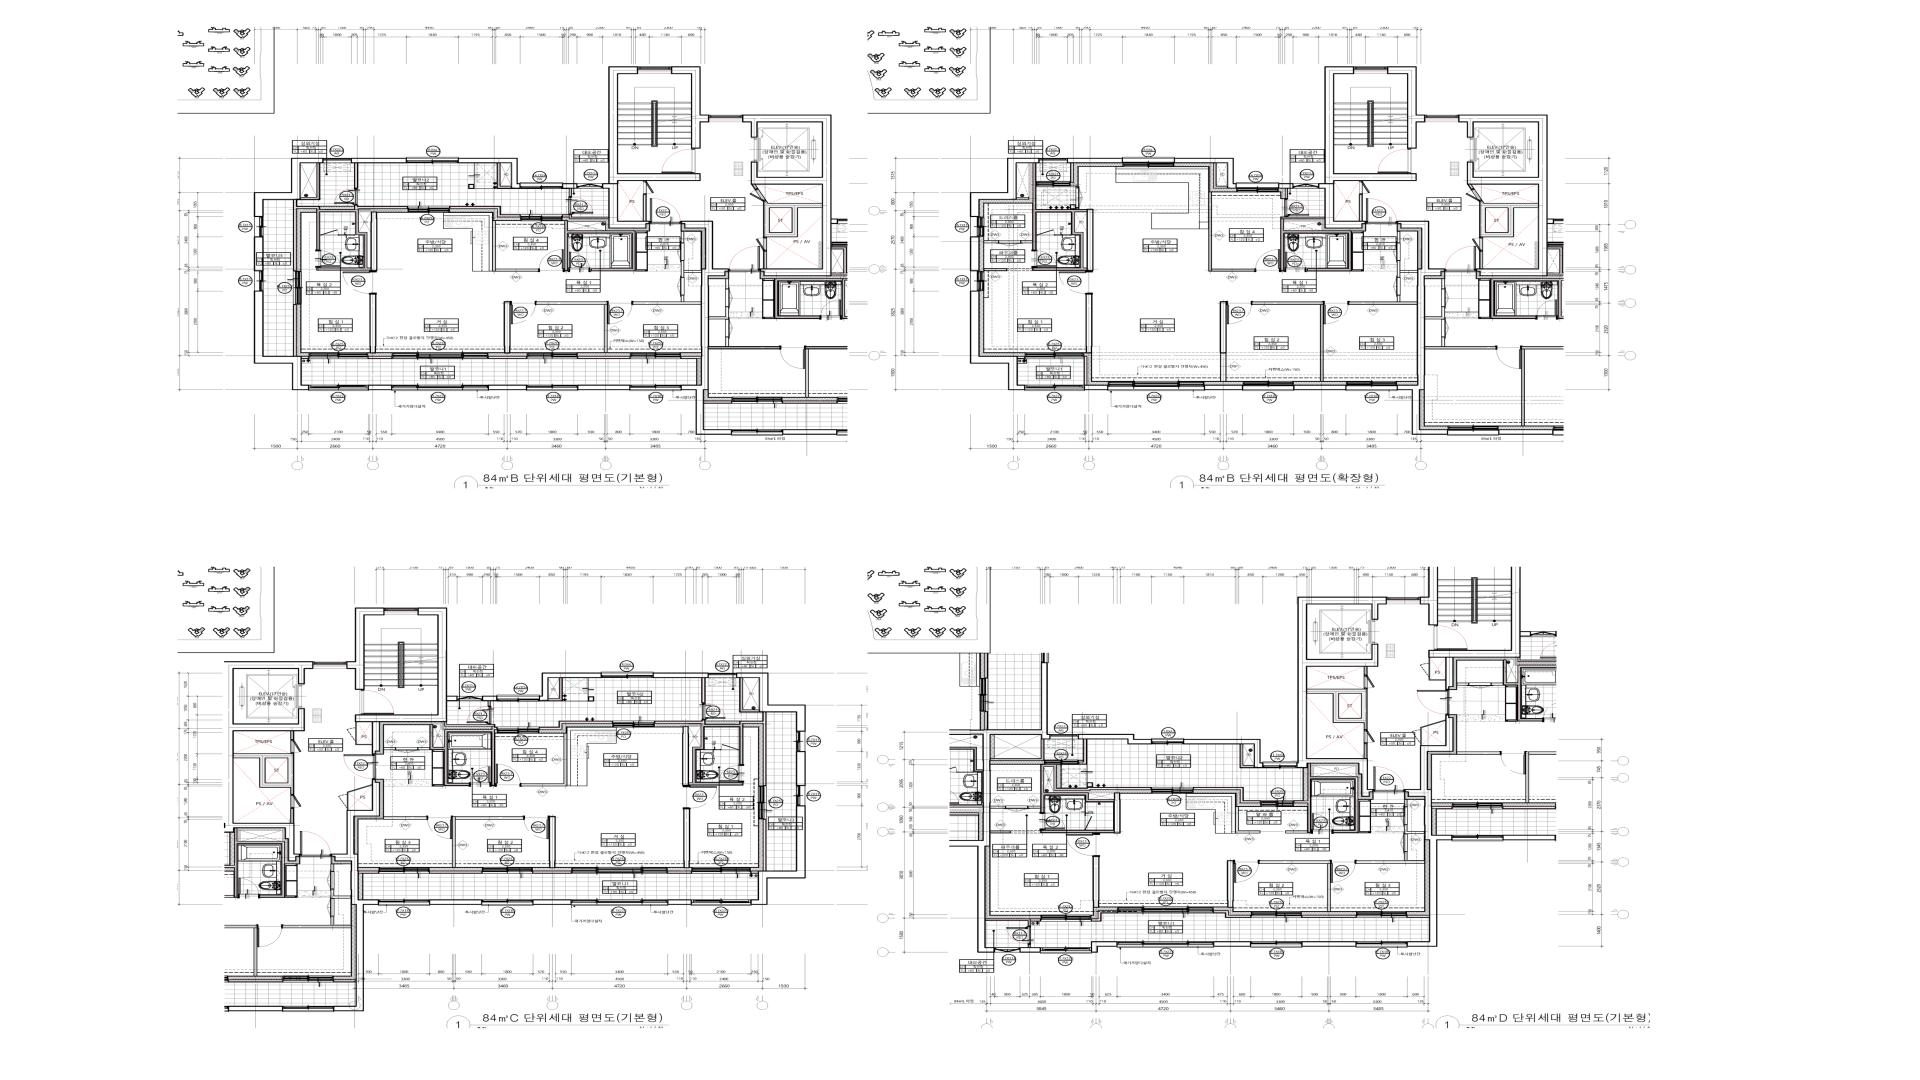door: (683, 785, 717, 810), (360, 690, 394, 715), (1433, 625, 1468, 650), (661, 149, 696, 173), (1366, 198, 1396, 225), (649, 198, 680, 224), (343, 754, 376, 779), (343, 270, 377, 294), (1378, 149, 1412, 173), (1059, 270, 1093, 294), (1374, 766, 1404, 793), (1067, 833, 1100, 857), (729, 247, 760, 272), (1331, 860, 1357, 884), (1226, 301, 1253, 324), (1323, 301, 1349, 324), (427, 816, 452, 840), (496, 764, 521, 787), (1234, 860, 1259, 884), (538, 249, 564, 272), (524, 816, 549, 839), (608, 302, 633, 324), (510, 302, 535, 324), (1255, 249, 1280, 272), (469, 766, 492, 787), (465, 705, 491, 724), (1006, 926, 1031, 944), (568, 196, 593, 215), (315, 249, 340, 268), (1039, 812, 1065, 829), (1311, 814, 1333, 833), (568, 252, 591, 272), (1284, 252, 1307, 272), (719, 765, 744, 782), (1284, 199, 1309, 216), (1031, 251, 1056, 268), (702, 704, 725, 720), (334, 189, 357, 204), (1464, 189, 1482, 204), (749, 189, 766, 204), (754, 237, 767, 252), (290, 794, 302, 808), (1364, 674, 1375, 688), (1364, 729, 1375, 744), (1472, 237, 1484, 251), (1076, 186, 1083, 210), (1360, 181, 1370, 195), (396, 746, 418, 753), (1006, 806, 1029, 812), (290, 740, 301, 753), (1000, 240, 1021, 247), (1036, 229, 1056, 236), (644, 182, 654, 194), (720, 744, 738, 750), (320, 229, 339, 236), (1084, 815, 1092, 829)
wall: (224, 661, 314, 861), (1298, 596, 1387, 796), (977, 731, 1051, 953), (603, 66, 702, 228), (1319, 66, 1418, 228), (355, 608, 458, 754), (1458, 115, 1548, 277), (742, 115, 831, 276), (1428, 543, 1522, 690), (1404, 715, 1453, 947), (1396, 220, 1448, 435), (680, 222, 732, 435), (293, 200, 407, 272), (654, 713, 766, 786), (331, 779, 380, 905), (1033, 164, 1087, 270), (1253, 302, 1324, 381), (750, 806, 806, 905), (255, 291, 309, 390), (971, 291, 1025, 390), (1040, 765, 1151, 812), (1294, 764, 1358, 833), (430, 721, 497, 786), (736, 673, 806, 732), (253, 158, 323, 218), (969, 158, 1039, 218), (1208, 191, 1255, 272), (1280, 219, 1352, 272), (452, 816, 524, 868), (564, 220, 636, 272), (1259, 861, 1331, 913), (537, 302, 607, 352), (671, 66, 709, 149), (1387, 66, 1425, 149), (347, 608, 385, 690), (1420, 543, 1458, 625), (443, 212, 493, 272), (233, 753, 294, 795), (521, 733, 567, 786), (1184, 738, 1263, 769), (493, 222, 538, 272), (1480, 200, 1539, 237), (764, 200, 822, 237), (458, 158, 521, 189), (1175, 158, 1237, 189), (539, 673, 601, 702), (990, 740, 1044, 761), (1193, 787, 1261, 803), (1077, 733, 1153, 745), (450, 206, 521, 218), (1356, 852, 1424, 864), (301, 164, 320, 200), (1236, 806, 1261, 833), (740, 678, 760, 712), (633, 295, 702, 305), (1349, 295, 1416, 305), (539, 721, 613, 729), (265, 758, 287, 783), (770, 208, 793, 232), (1220, 302, 1226, 382), (1085, 295, 1093, 353), (1358, 799, 1371, 833), (1087, 208, 1093, 270), (1092, 857, 1100, 907), (369, 294, 376, 353), (355, 723, 372, 745), (683, 810, 690, 868), (371, 212, 377, 270), (969, 236, 980, 272), (253, 237, 264, 272), (680, 261, 702, 278), (986, 919, 1031, 927), (1240, 745, 1254, 769), (549, 678, 563, 702), (549, 816, 555, 868), (504, 302, 510, 353), (1396, 261, 1418, 277), (1213, 164, 1226, 189), (497, 164, 510, 189), (1091, 942, 1118, 953), (1091, 910, 1118, 922), (796, 752, 806, 786), (683, 727, 688, 785), (1213, 910, 1251, 918), (351, 158, 407, 164), (1067, 158, 1124, 164), (653, 673, 708, 678), (1302, 942, 1357, 947), (1040, 829, 1114, 833), (429, 899, 483, 905), (578, 385, 630, 390), (1294, 385, 1346, 390), (1114, 793, 1121, 833), (1228, 860, 1233, 907), (1079, 740, 1088, 765), (429, 870, 483, 874), (488, 385, 527, 390), (1204, 385, 1244, 390), (1404, 824, 1424, 835), (293, 305, 297, 356), (533, 899, 571, 905), (1213, 942, 1251, 947), (562, 215, 608, 219), (384, 816, 427, 820), (533, 870, 572, 874), (1302, 915, 1357, 918), (1019, 947, 1040, 953), (578, 356, 630, 359), (764, 819, 766, 870), (667, 899, 692, 905), (642, 195, 647, 220), (353, 164, 359, 189), (1084, 385, 1109, 390), (368, 385, 392, 390), (1280, 216, 1324, 219), (1084, 356, 1088, 385), (488, 356, 527, 359), (667, 870, 692, 874), (702, 678, 705, 703), (984, 268, 1007, 272), (562, 183, 578, 189), (1278, 183, 1294, 189), (359, 870, 378, 874), (483, 696, 497, 702), (1480, 251, 1484, 269), (764, 251, 767, 269), (368, 356, 393, 359), (1360, 195, 1362, 220), (984, 240, 1000, 244), (1407, 915, 1429, 918), (290, 808, 294, 823), (1286, 831, 1307, 833), (990, 831, 1010, 833), (1071, 164, 1073, 183), (680, 356, 700, 359), (680, 231, 684, 243), (990, 806, 1006, 808), (1284, 189, 1288, 199), (1022, 240, 1033, 244), (1468, 185, 1474, 190), (752, 185, 758, 190), (418, 748, 430, 750), (384, 748, 396, 750), (290, 732, 294, 740), (750, 870, 758, 874), (1029, 806, 1040, 808), (1017, 198, 1029, 200), (568, 189, 572, 196), (1404, 799, 1408, 807), (1398, 232, 1400, 243), (1031, 919, 1042, 922), (302, 356, 309, 359), (1018, 356, 1025, 359), (431, 785, 443, 786), (1079, 760, 1083, 762), (1027, 944, 1031, 947)
window: (1108, 381, 1204, 392), (392, 385, 488, 392), (572, 899, 667, 906), (572, 868, 667, 874), (393, 352, 488, 359), (1118, 942, 1213, 948), (1118, 907, 1213, 914), (1124, 157, 1175, 167), (1346, 381, 1396, 390), (1244, 381, 1294, 390), (309, 385, 368, 392), (1025, 385, 1084, 392), (1025, 352, 1084, 359), (1237, 183, 1279, 193), (692, 899, 750, 906), (692, 868, 750, 874), (310, 352, 367, 359), (378, 899, 429, 906), (483, 899, 533, 906), (378, 868, 429, 874), (407, 157, 458, 164), (630, 352, 680, 359), (630, 385, 680, 392), (527, 385, 578, 392), (1357, 911, 1407, 918), (1357, 942, 1407, 948), (1251, 911, 1302, 918), (1251, 942, 1302, 948), (1042, 915, 1091, 922), (293, 272, 302, 305), (497, 727, 539, 733), (497, 695, 539, 702), (1151, 787, 1193, 794), (601, 673, 653, 678), (613, 721, 654, 728), (407, 206, 448, 212), (521, 182, 562, 189), (521, 215, 562, 222), (483, 868, 533, 873), (527, 353, 578, 359), (1040, 948, 1091, 953), (758, 786, 766, 819), (638, 66, 671, 74), (709, 115, 742, 123), (1354, 66, 1387, 74), (971, 272, 984, 291), (971, 218, 984, 237), (1263, 762, 1298, 769), (385, 608, 418, 615), (1458, 543, 1491, 550), (1261, 800, 1294, 807), (1425, 115, 1458, 121), (1387, 597, 1420, 604), (314, 662, 345, 669), (796, 786, 806, 806), (796, 732, 806, 752), (255, 272, 264, 291), (1036, 181, 1071, 186), (1044, 760, 1079, 765), (255, 218, 264, 236), (1153, 738, 1183, 744), (323, 158, 351, 164), (1039, 158, 1067, 164), (709, 673, 736, 678), (1051, 735, 1077, 740), (578, 183, 603, 189), (1294, 183, 1319, 189), (458, 696, 481, 702), (994, 948, 1019, 952)
